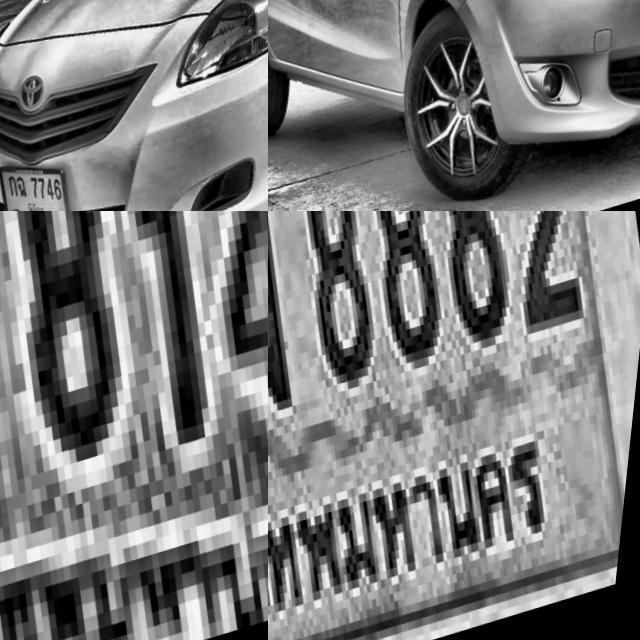license-plate: (268, 211, 640, 640), (0, 211, 268, 640), (0, 141, 109, 211)
